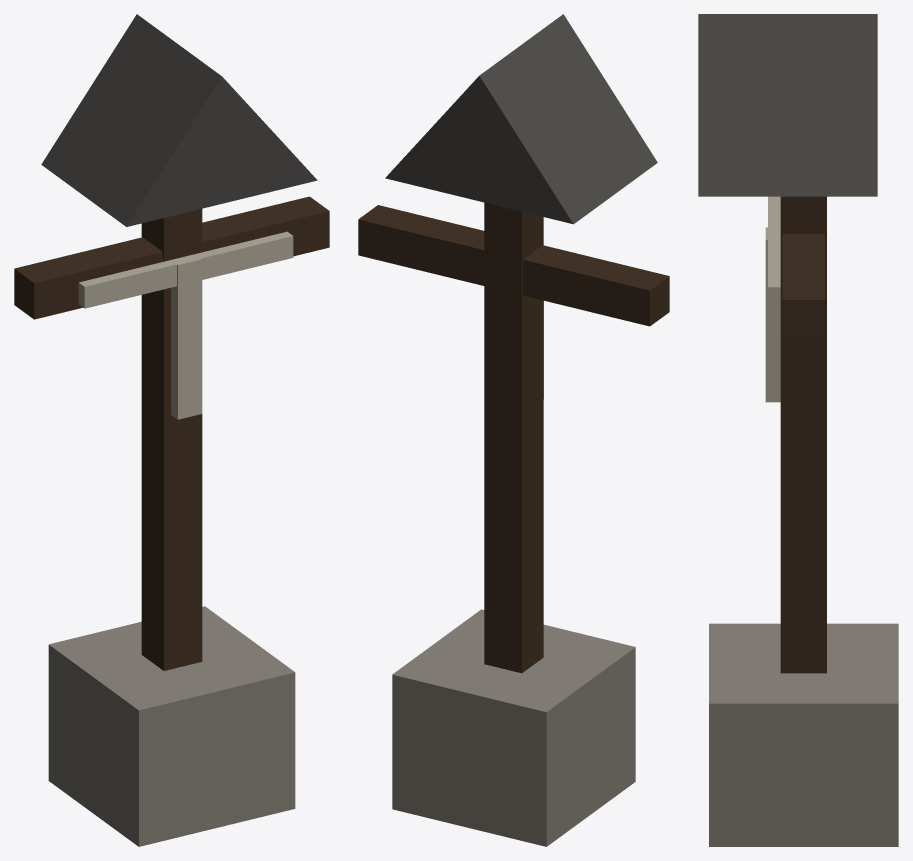
File: wayside_cross.glb
3 views of the same model, side by side, from view 1: azimuth 30°, elevation 25°; view 2: azimuth 150°, elevation 25°; view 3: azimuth 270°, elevation 25° (orthographic). The views are drawn at different scales.
Visible parts, largest first — view 1: wayside_cross; view 2: wayside_cross; view 3: wayside_cross.
Part boxes in pixels (x1,y1,x2,y2): wayside_cross: [14, 14, 329, 846]; wayside_cross: [358, 14, 669, 846]; wayside_cross: [698, 14, 898, 846].
Bounding box in the file's own units: 1.7 × 4.15 × 0.95.
